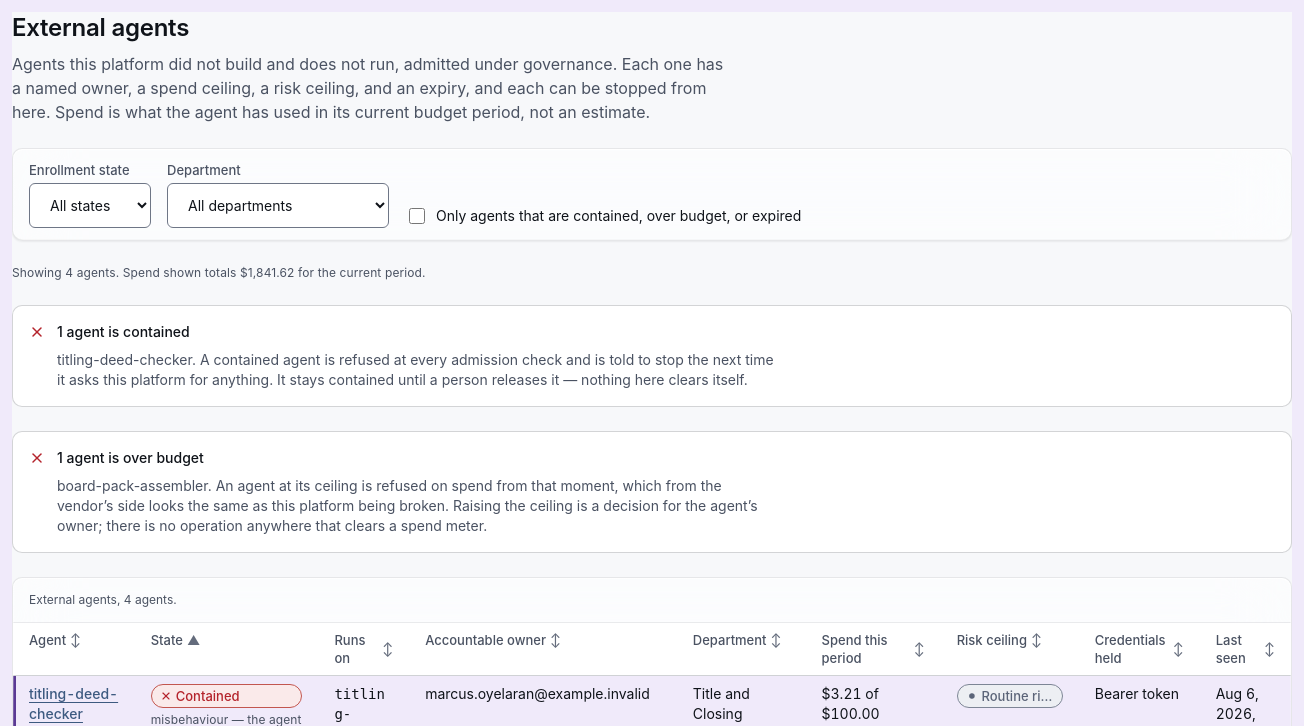
it: ExternalAgents › filters to everything that needs a person
This screenshot has width=1304, height=726.
Click the checkbox labelled "Only agents that are contained, over budget, or expired": [417, 216] box [409,208,425,224]
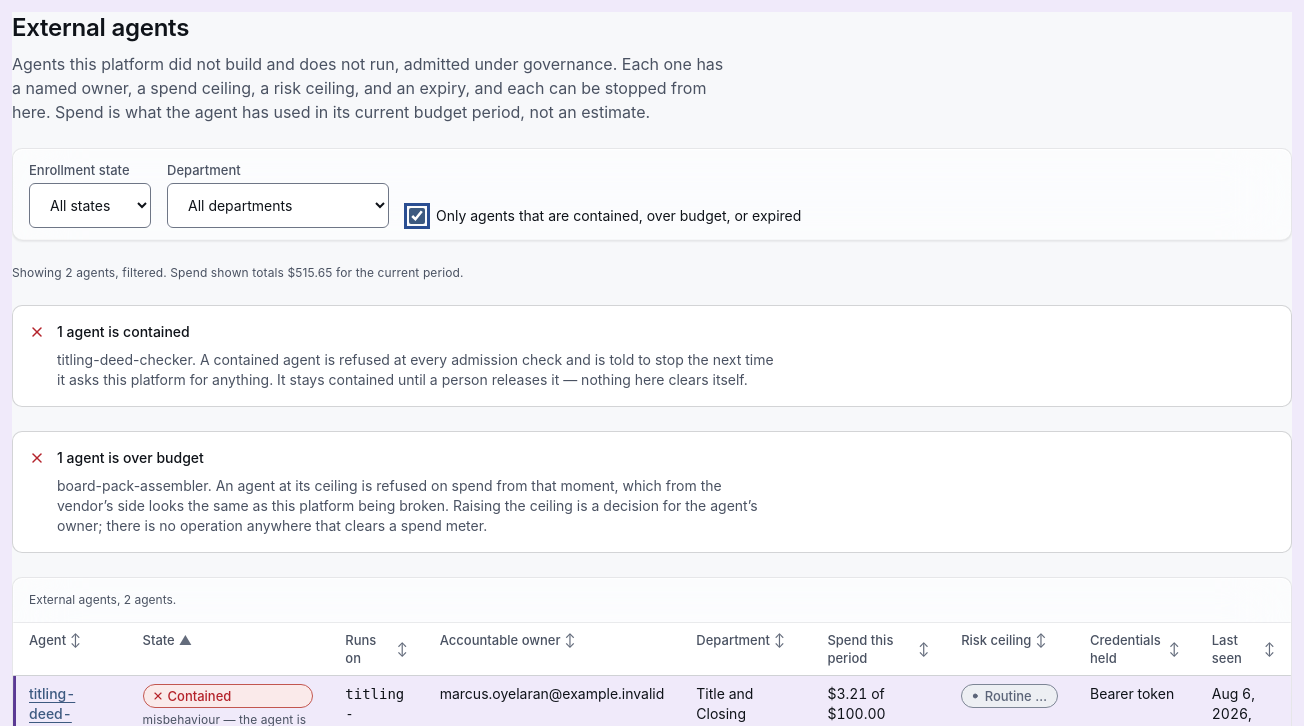
Expected: the number of rows is 3
